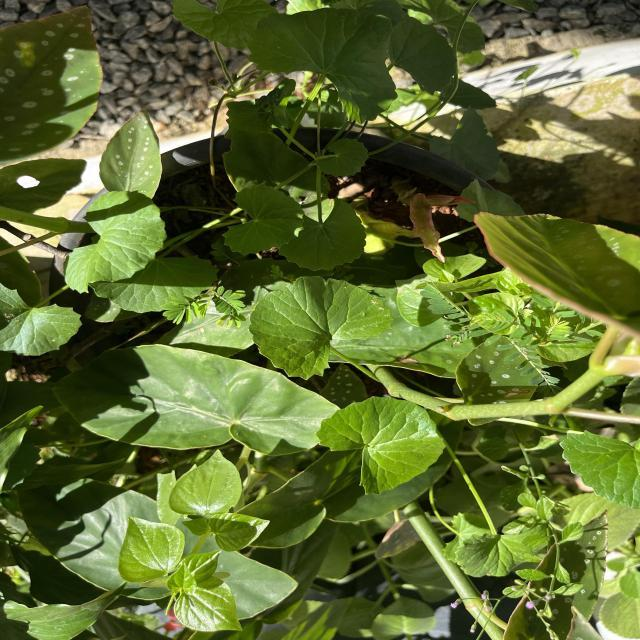Centella asiatica: (246, 274, 396, 382), (312, 394, 448, 497), (60, 186, 170, 298), (276, 196, 368, 274), (218, 181, 308, 258)
